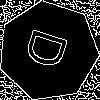D: (23, 26, 78, 75)
